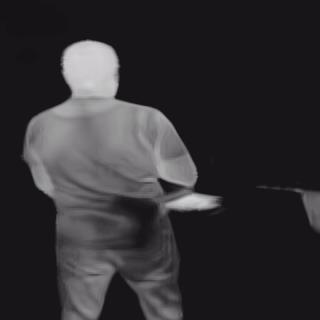Gun: (110, 194, 159, 250)
